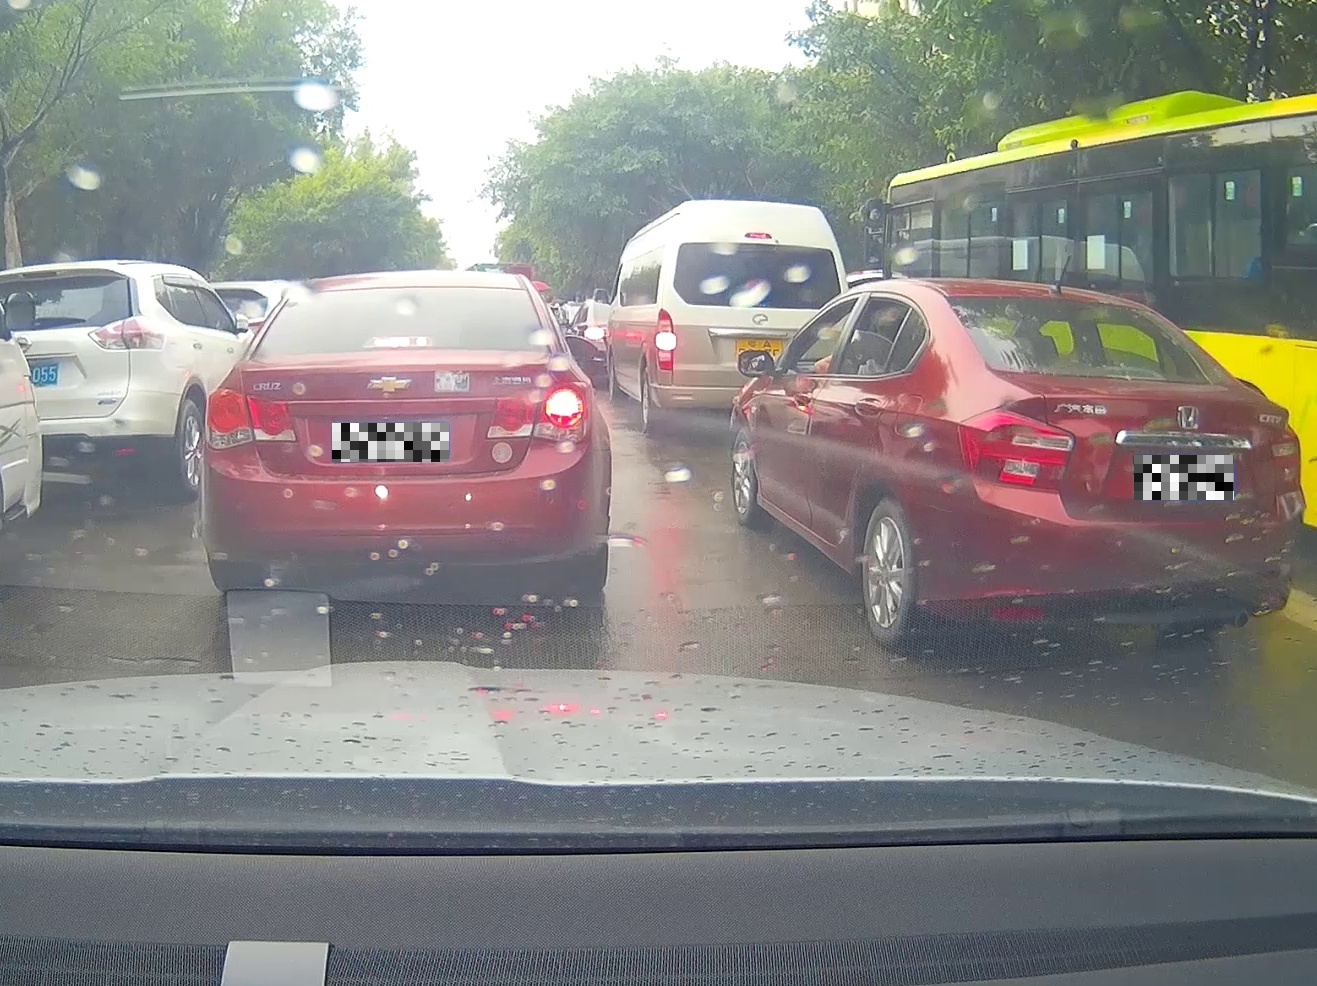L_light: (956, 409, 1074, 491), (203, 388, 298, 450)
R_light: (484, 379, 591, 443), (1272, 425, 1303, 491), (365, 334, 433, 350)
T_light: (1096, 365, 1165, 379)
day-no: (926, 281, 1304, 653)
day-right: (199, 271, 610, 593)
plate_1: (332, 423, 449, 462)
plate_2: (1134, 455, 1234, 500)
